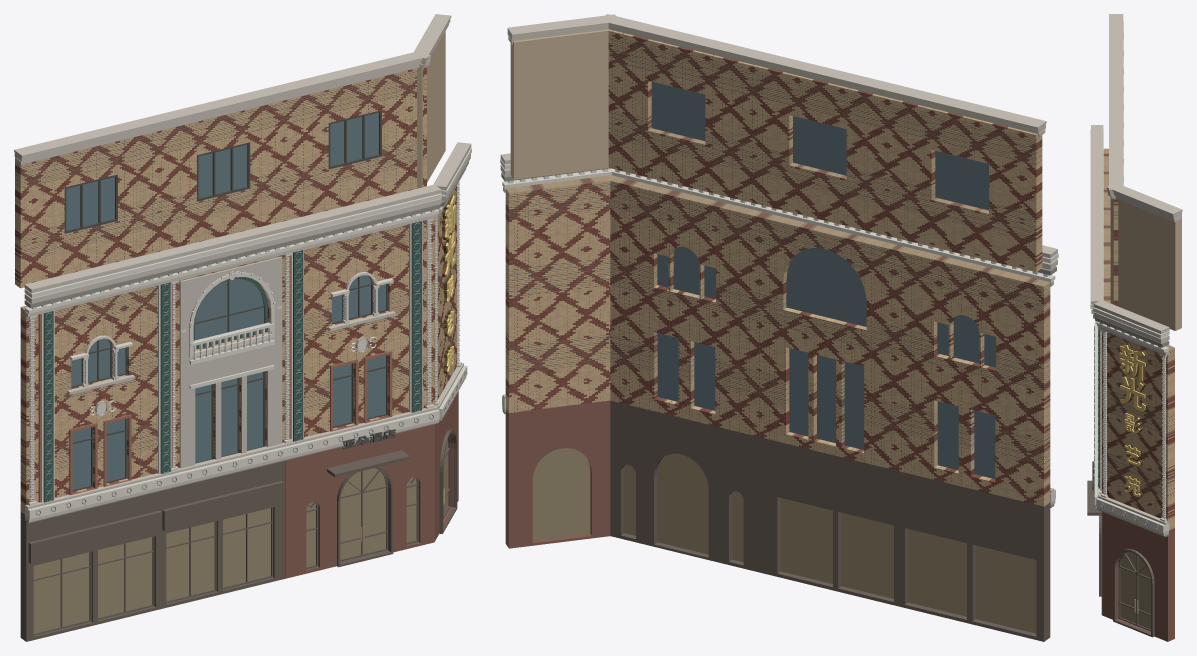
The model's file is huangpu-strand-theatre-ningbo-front-lod.glb.
The picture shows the model from 3 angles, left to right: view 1: azimuth 30°, elevation 25°; view 2: azimuth 150°, elevation 25°; view 3: azimuth 270°, elevation 25°; orthographic projection. The views are drawn at different scales.
Visible parts, largest first — view 1: 新光大戏院宁波路圆券与菱格砖立面; view 2: 新光大戏院宁波路圆券与菱格砖立面; view 3: 新光大戏院宁波路圆券与菱格砖立面.
Part boxes in pixels (left/top/right/bottom): 新光大戏院宁波路圆券与菱格砖立面: left=14, top=14, right=471, bottom=641; 新光大戏院宁波路圆券与菱格砖立面: left=500, top=14, right=1058, bottom=641; 新光大戏院宁波路圆券与菱格砖立面: left=1087, top=14, right=1182, bottom=641.
Size of the model in its own units: 24.47 by 23.56 by 4.79.
Materials: 16 (1 with a texture image).
